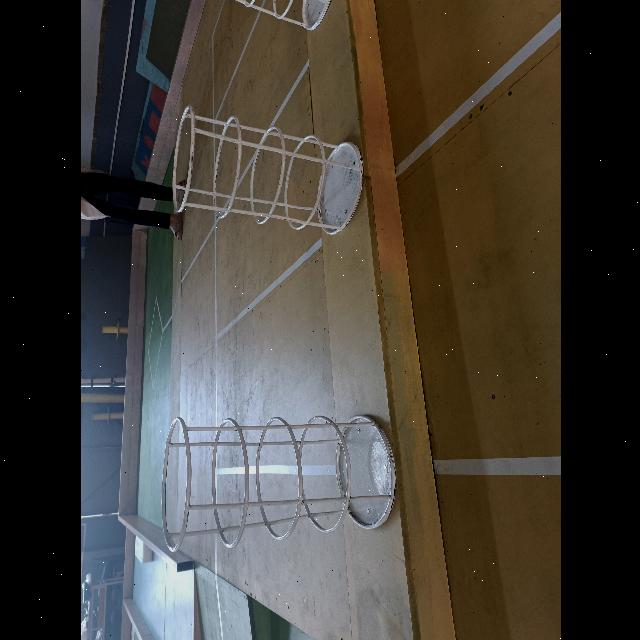S: (158, 415, 401, 556), (168, 104, 363, 236), (231, 0, 333, 34)
